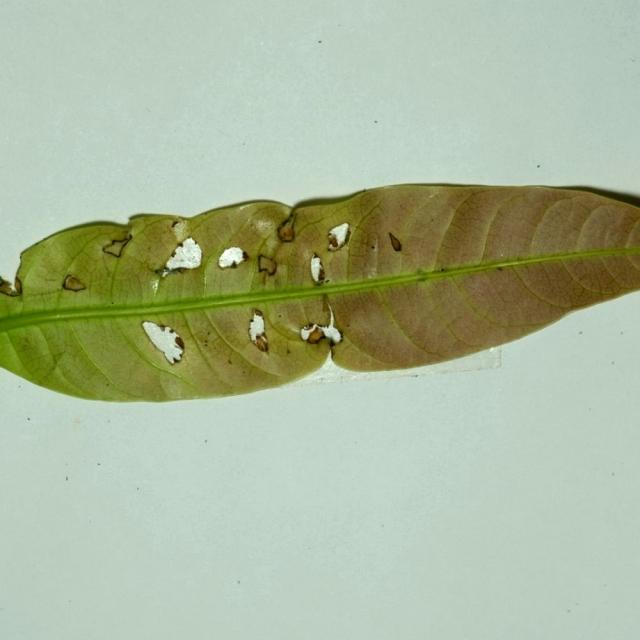Anthracnose: (138, 319, 195, 369), (300, 296, 342, 347), (161, 238, 202, 275), (248, 309, 268, 352), (218, 246, 249, 270), (327, 223, 351, 251), (102, 234, 131, 257), (276, 213, 296, 243), (310, 253, 327, 286), (62, 274, 87, 293), (0, 275, 21, 297), (258, 254, 278, 277), (170, 218, 190, 241), (253, 216, 275, 234), (388, 231, 402, 252), (155, 267, 172, 278), (253, 309, 264, 319)
Mango: (0, 184, 639, 406)
